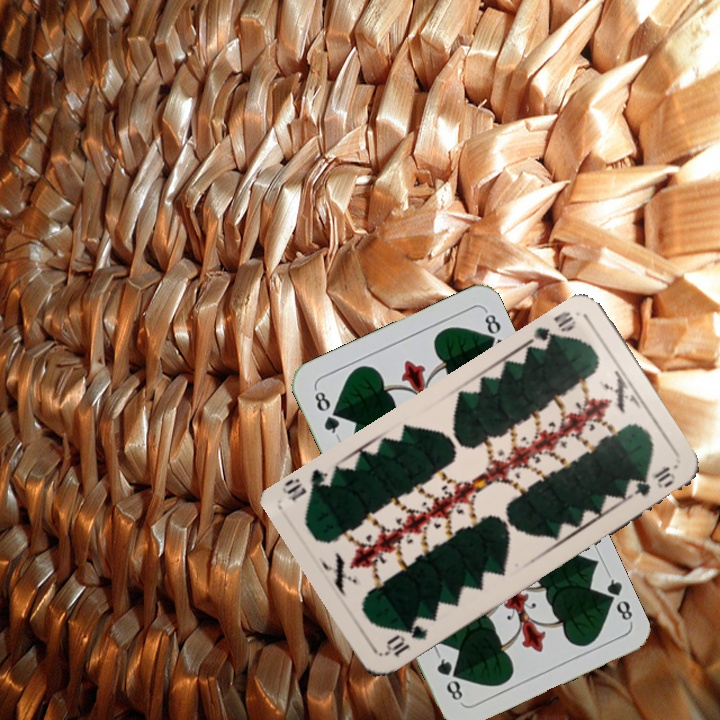G10: (526, 307, 579, 349), (381, 621, 431, 660)
G8: (597, 569, 636, 625), (310, 384, 343, 440)
